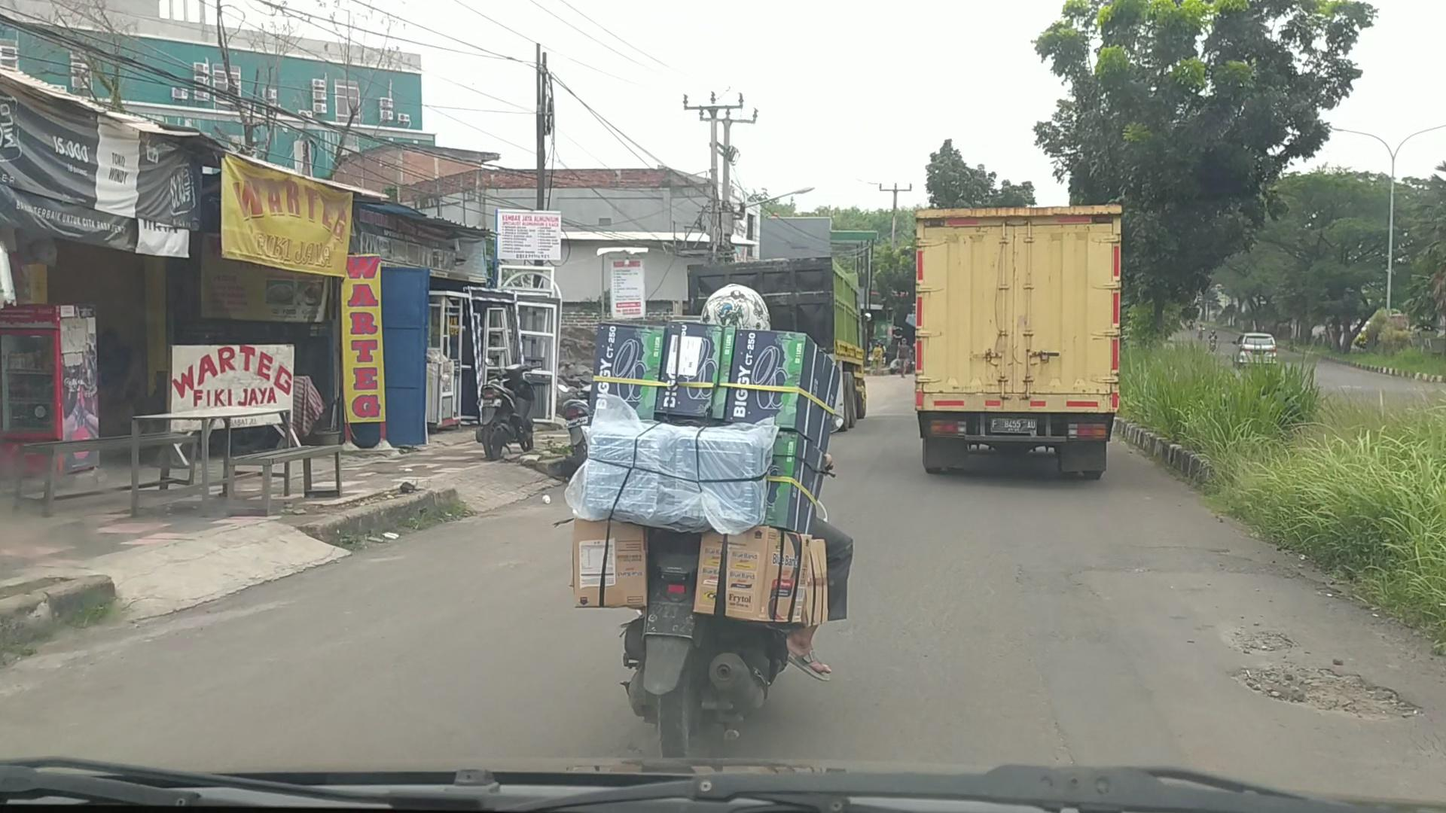pothole: (1234, 666, 1417, 726), (1234, 627, 1293, 655)
